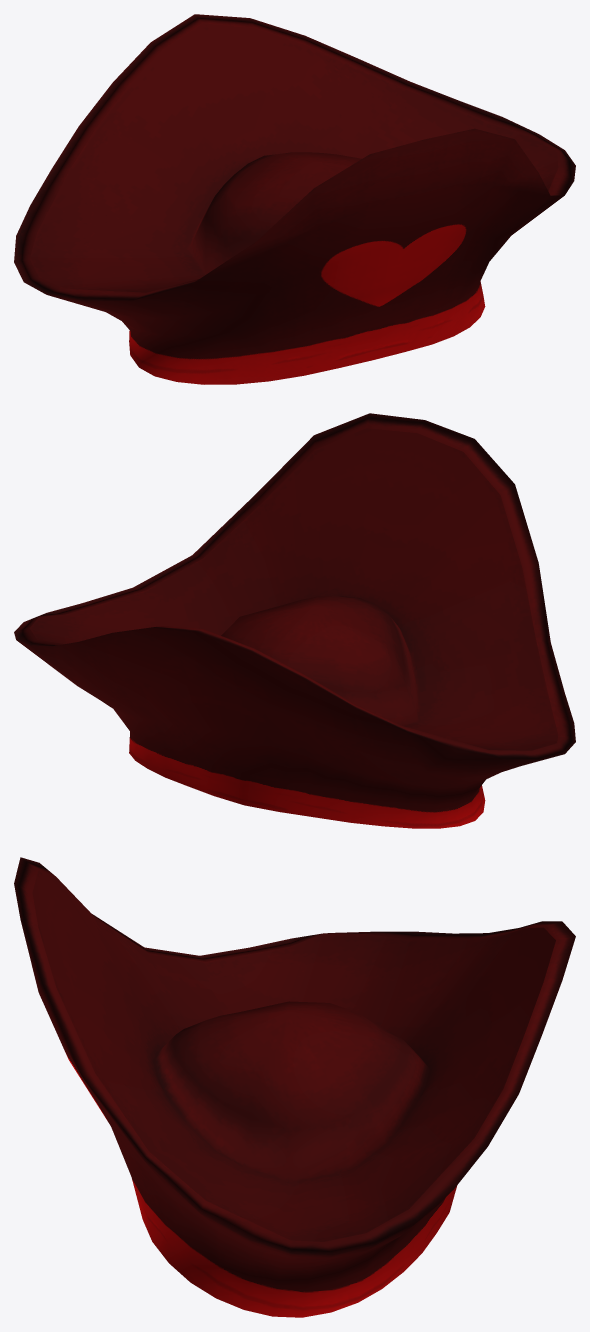
The model's file is M_Pirate_HatC.glb.
3 views of the same model, one above another, from view 1: azimuth 30°, elevation 25°; view 2: azimuth 150°, elevation 25°; view 3: azimuth 270°, elevation 25° (orthographic). The views are drawn at different scales.
Parts seen in each view (by area): view 1: SM_Pirate_Hat; view 2: SM_Pirate_Hat; view 3: SM_Pirate_Hat.
Part boxes in pixels (<box>): SM_Pirate_Hat: <box>14,14,575,384</box>; SM_Pirate_Hat: <box>14,413,575,828</box>; SM_Pirate_Hat: <box>14,857,575,1317</box>.
Size of the model in its own units: 1.07 by 0.5186 by 0.7882.
Materials: 1 (1 with a texture image).
